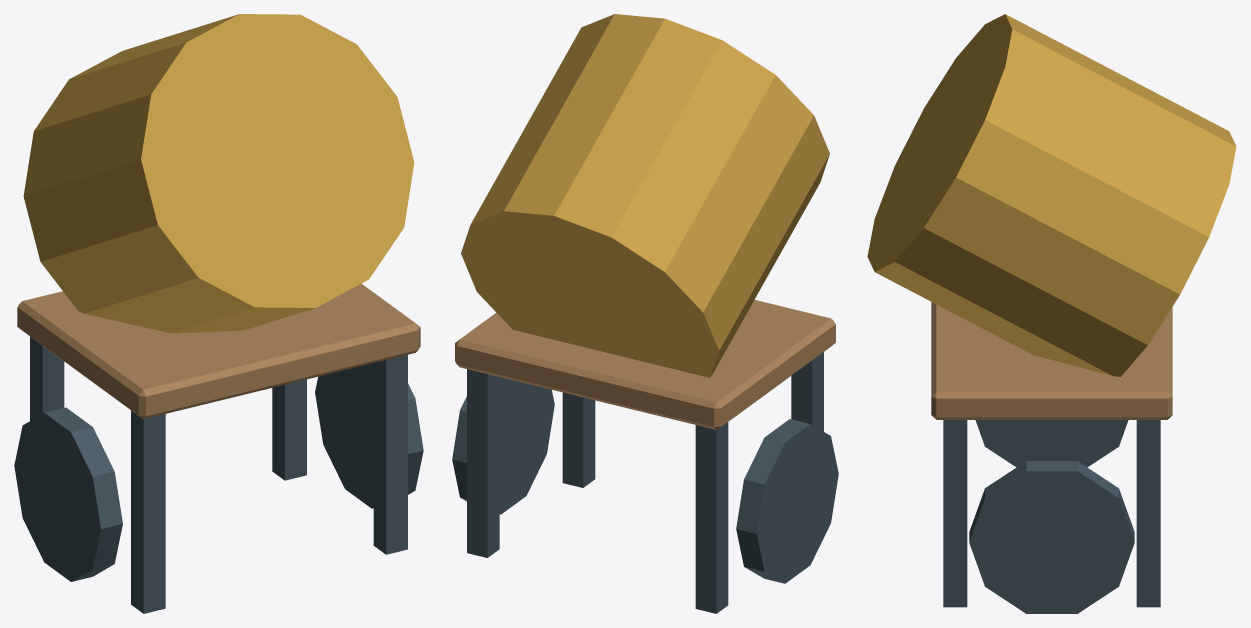
The model's file is cement_mixer.glb.
3 renders of one model, left to right at view 1: azimuth 30°, elevation 25°; view 2: azimuth 150°, elevation 25°; view 3: azimuth 270°, elevation 25°, orthographic. The views are drawn at different scales.
Visible parts, largest first — view 1: cement_mixer; view 2: cement_mixer; view 3: cement_mixer.
Boxes of the visible parts, <box> form: cement_mixer: <box>14,14,423,613</box>; cement_mixer: <box>452,14,838,613</box>; cement_mixer: <box>867,14,1236,613</box>.
Size of the model in its own units: 1.03 by 1.65 by 1.07.
